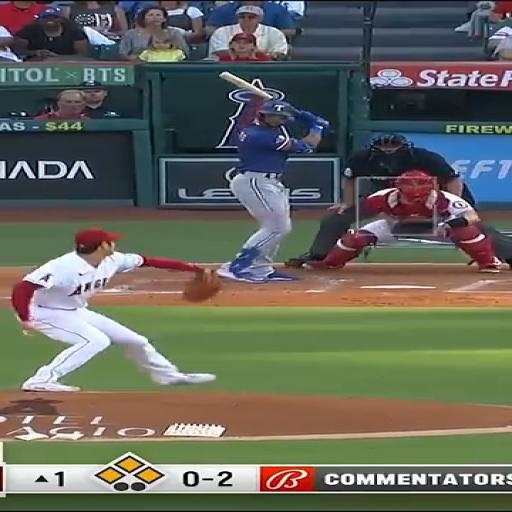bat: (220, 72, 273, 99)
